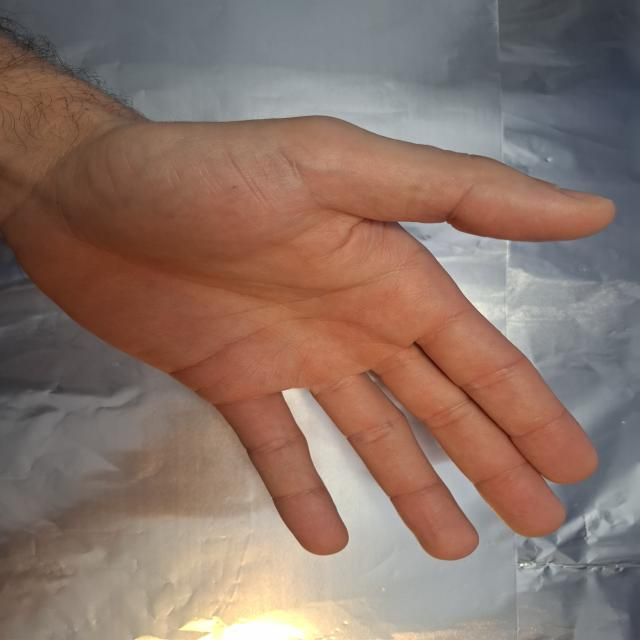glove_off: (15, 67, 620, 562)
